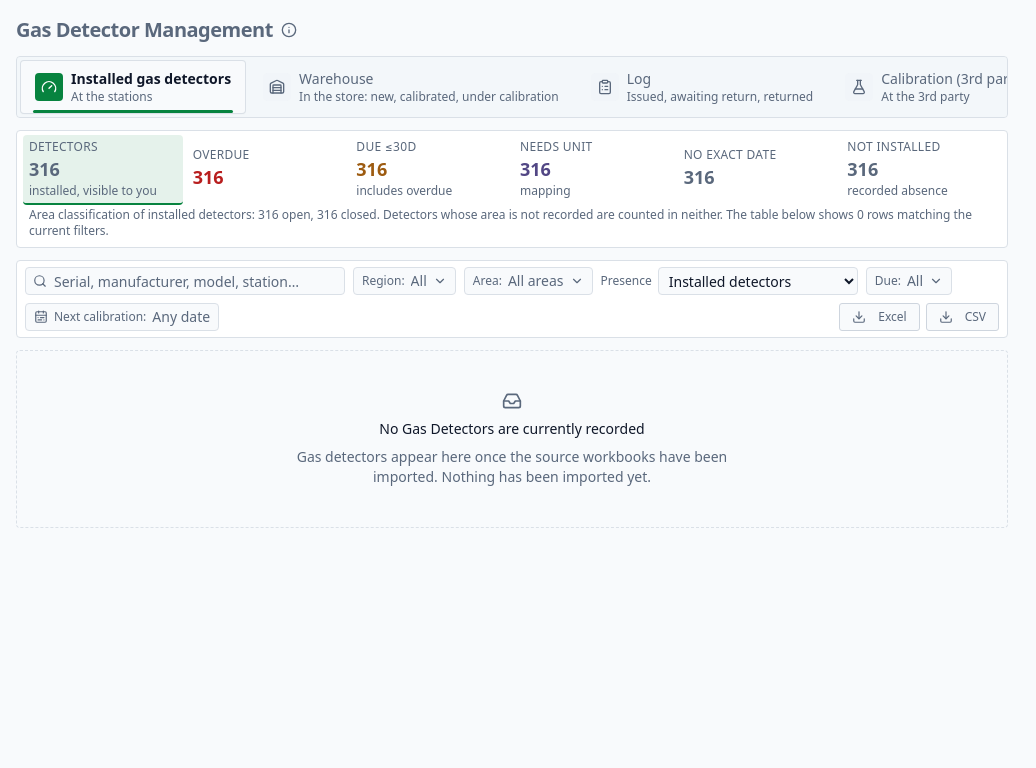
Loading, empty, no-match and failure are four different screens › distinguishes "no match" from "nothing exists"
The width and height of the screenshot is (1036, 768).
Type "zzzz" into the search field named "search gas detectors".
click(185, 281); type("zzzz")  # box [25,267,345,295]
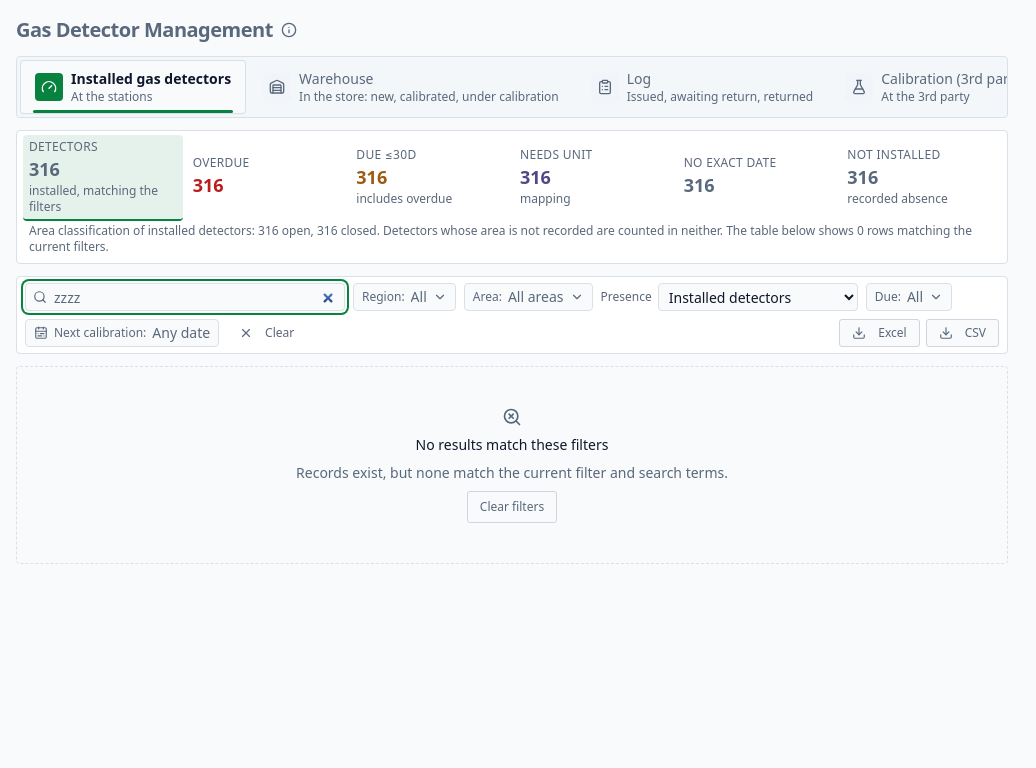
Expected: the text "No results match these filters" is shown, [416,435,608,455]
